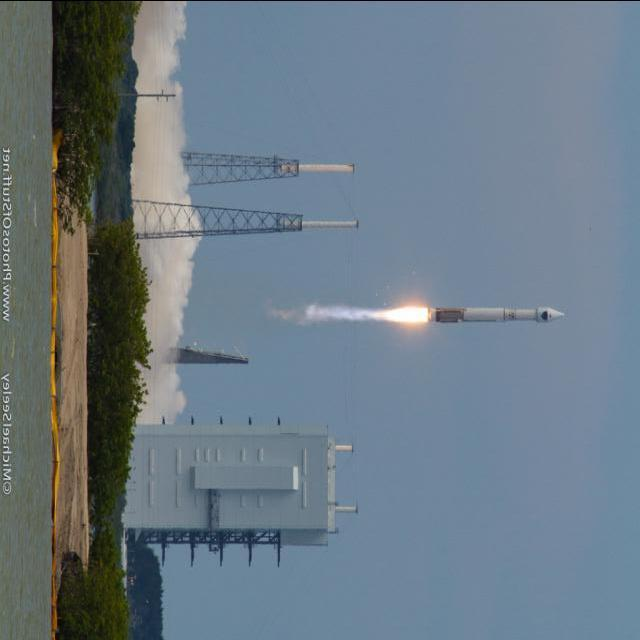missile: (426, 304, 567, 327)
